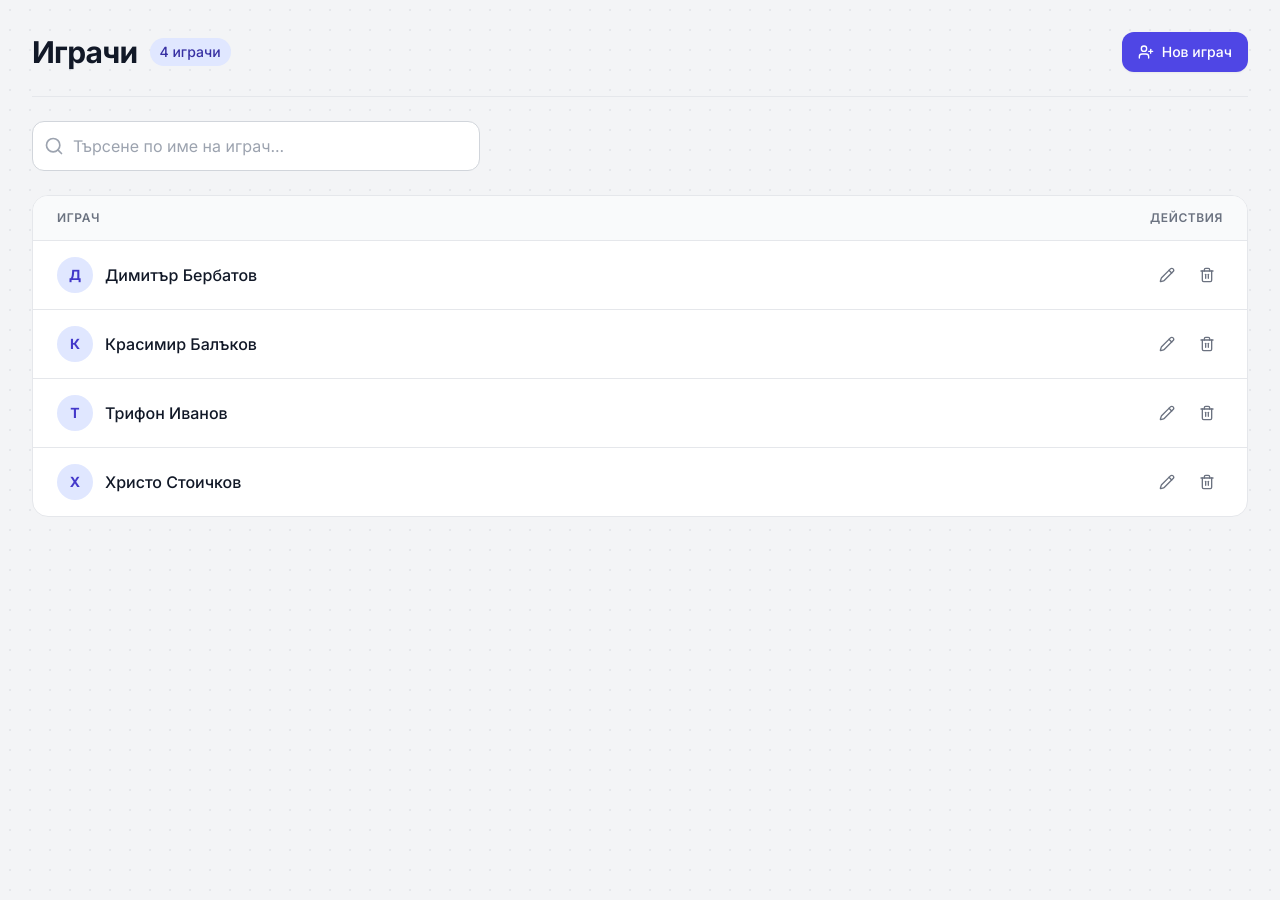
Test: PlayersPage › Search filtering › renders no search results empty state when query does not match any players
The image size is (1280, 900).
Type "Несъществуващ" into the field labelled "Търсене по име на играч" at [256, 146], box [32,121,480,171]
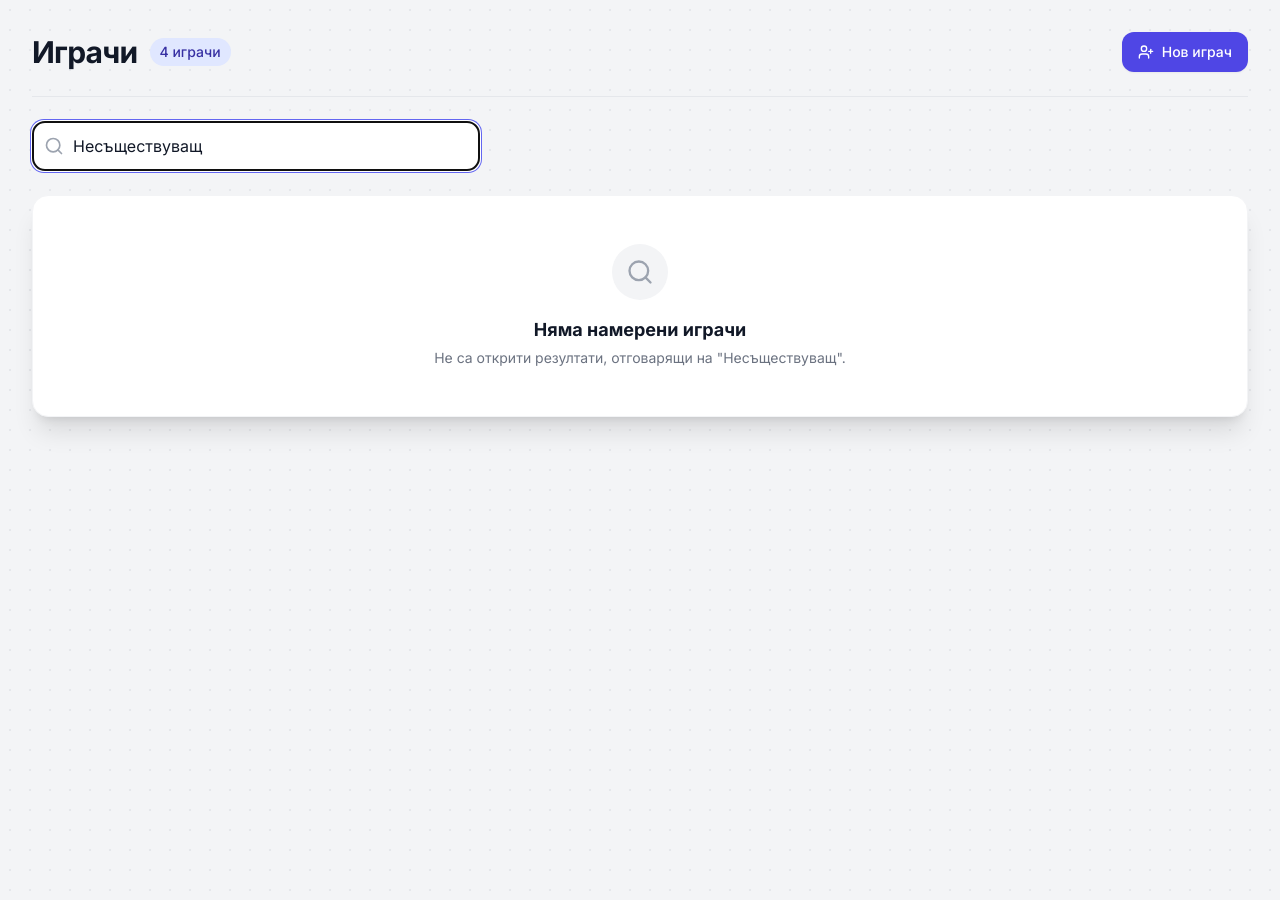
Result: the heading "Няма намерени играчи" is shown at [534,319,746,340]
Result: the text "Не са открити резултати, отговарящи на \"Несъществуващ\"." is shown at [434,349,846,366]
